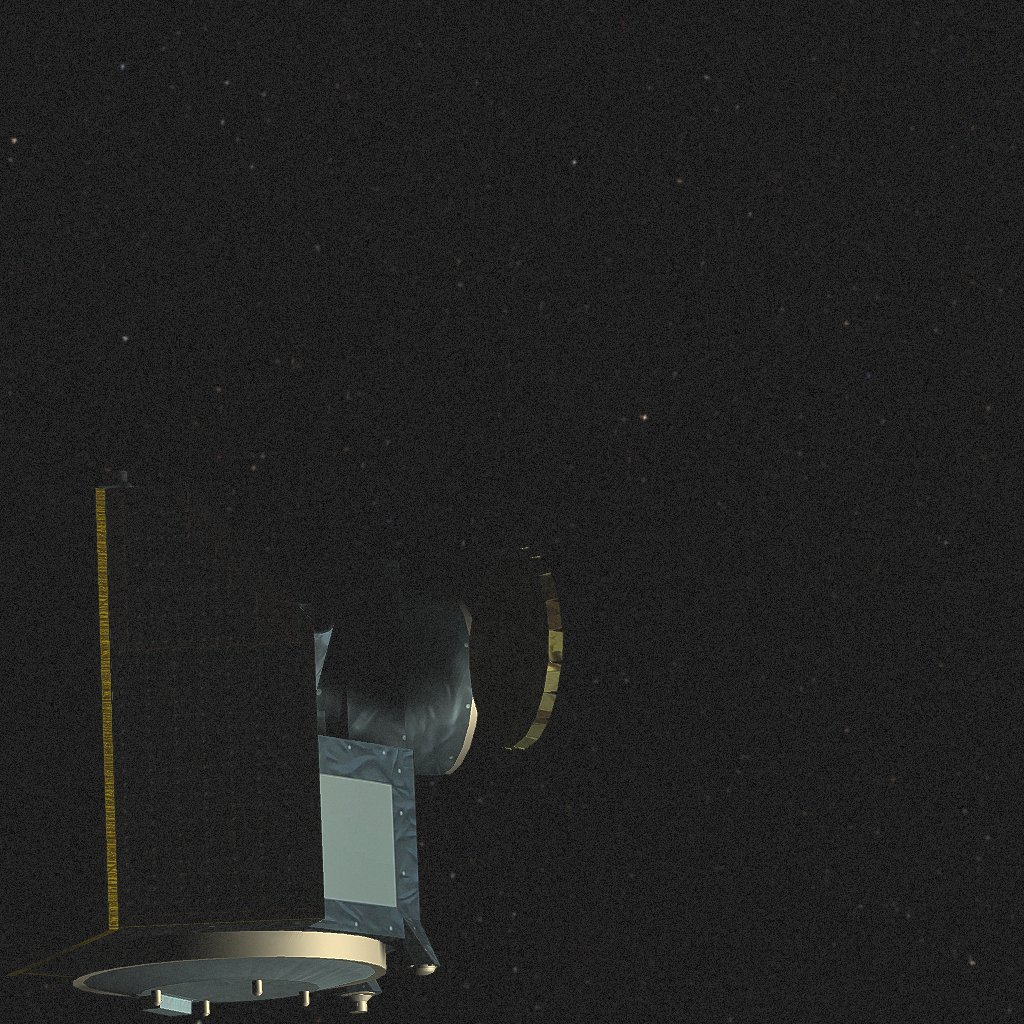cheops: (47, 485, 525, 1006)
